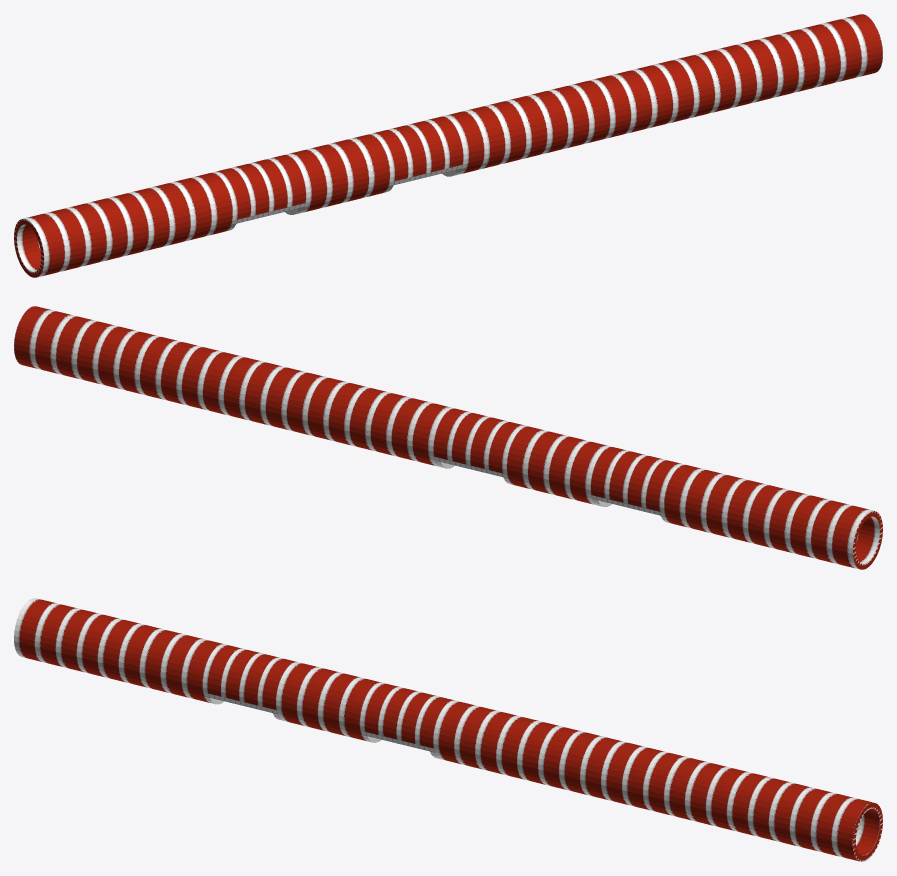
File: pipe6.dae
3 renders of one model, top to bottom at view 1: azimuth 30°, elevation 25°; view 2: azimuth 150°, elevation 25°; view 3: azimuth 330°, elevation 25°, orthographic.
Visible parts, largest first — view 1: pipe6; view 2: pipe6; view 3: pipe6.
Boxes of the visible parts, x1,y1,x2,y2 form: pipe6: (14, 14, 882, 277); pipe6: (14, 306, 882, 569); pipe6: (14, 598, 882, 861).
Bounding box in the file's own units: 80 × 4.98 × 4.98.
